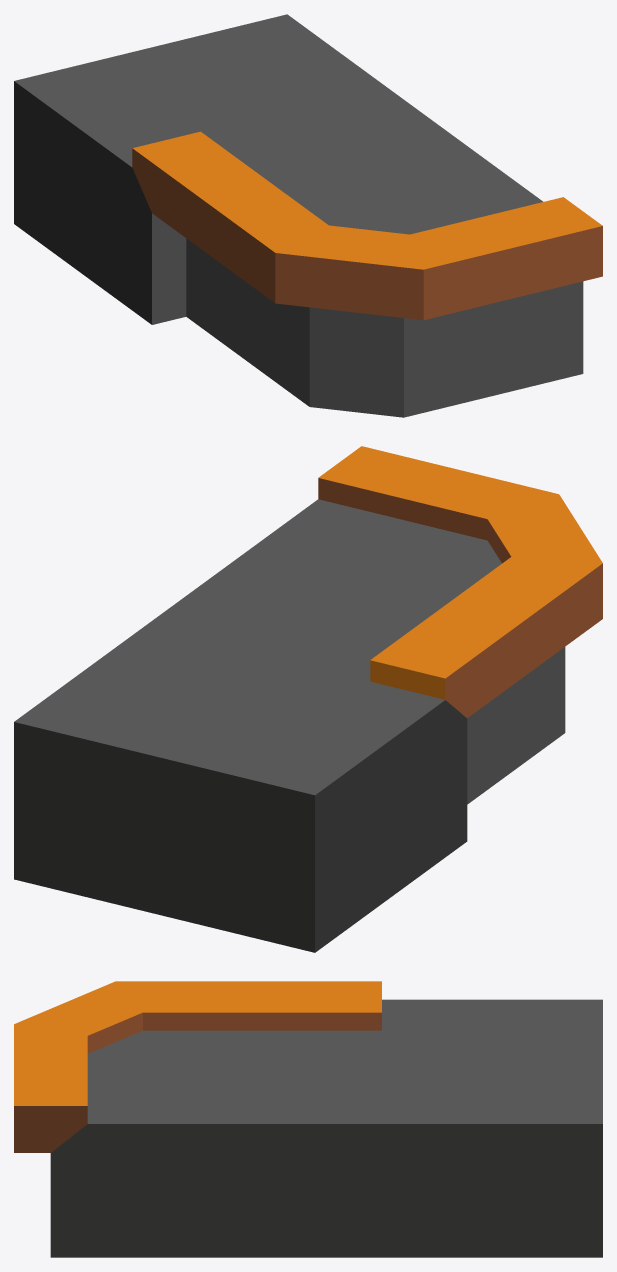
File: COSMIC_F_Perimeter_1U_90_Outer_3a.fbx
3 renders of one model, top to bottom at view 1: azimuth 30°, elevation 25°; view 2: azimuth 150°, elevation 25°; view 3: azimuth 270°, elevation 25°, orthographic. The views are drawn at different scales.
Visible parts, largest first — view 1: COSMIC_F_Perimeter_1U_90_Outer_3a; view 2: COSMIC_F_Perimeter_1U_90_Outer_3a; view 3: COSMIC_F_Perimeter_1U_90_Outer_3a.
Part boxes in pixels (x1,y1,x2,y2): COSMIC_F_Perimeter_1U_90_Outer_3a: (14, 14, 602, 417); COSMIC_F_Perimeter_1U_90_Outer_3a: (14, 446, 602, 952); COSMIC_F_Perimeter_1U_90_Outer_3a: (14, 981, 602, 1257).
Size of the model in its own units: 0.5 by 0.2839 by 1.
